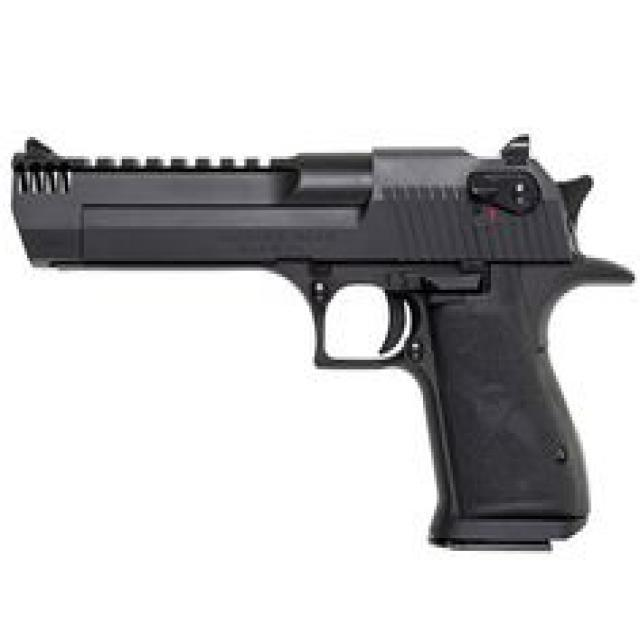semi automatic: (2, 89, 640, 592)
